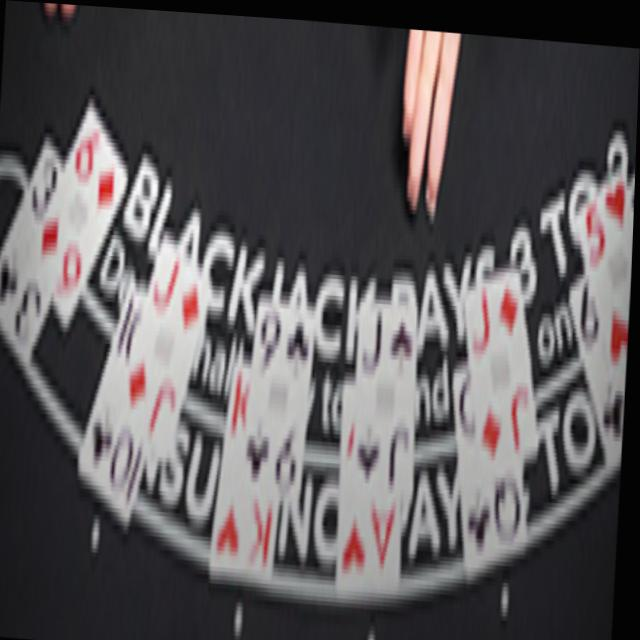Card-10: (81, 270, 150, 518)
Card-3: (0, 134, 63, 369)
Card-5: (578, 157, 635, 378)
Card-6: (36, 95, 129, 322), (571, 265, 627, 471)
Card-9: (247, 292, 317, 493)
Card-A: (340, 374, 405, 586)
Card-J: (124, 228, 210, 459), (466, 256, 540, 472), (355, 294, 417, 492)
Card-K: (214, 356, 282, 580)
Card-Q: (456, 360, 529, 567)
